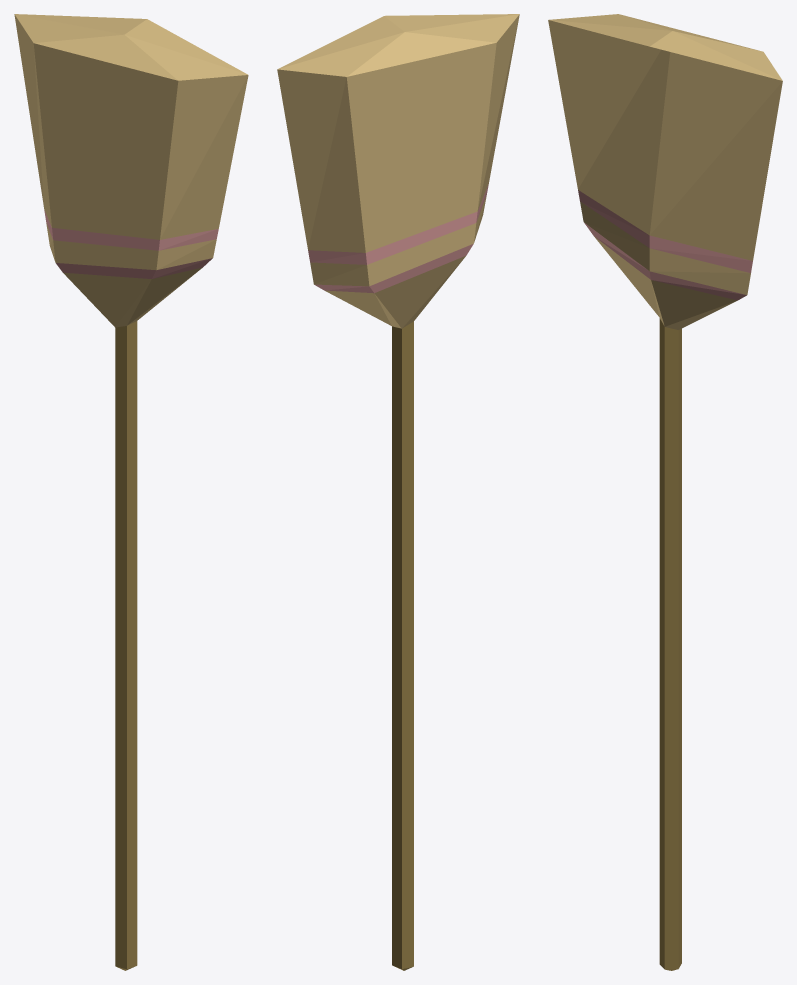
File: weapon3broom.fbx
The picture shows the model from 3 angles, left to right: view 1: azimuth 90°, elevation 25°; view 2: azimuth 150°, elevation 25°; view 3: azimuth 270°, elevation 25°; orthographic projection.
Visible parts, largest first — view 1: pCylinder2; view 2: pCylinder2; view 3: pCylinder2.
Part boxes in pixels (bbox=[...]): pCylinder2: bbox=[14, 14, 248, 970]; pCylinder2: bbox=[277, 14, 519, 970]; pCylinder2: bbox=[548, 14, 782, 970].
Size of the model in its own units: 0.2019 by 1.32 by 0.2991.
